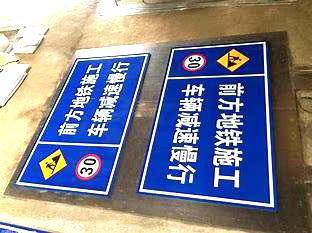sign: (143, 44, 274, 202), (15, 47, 142, 202)
